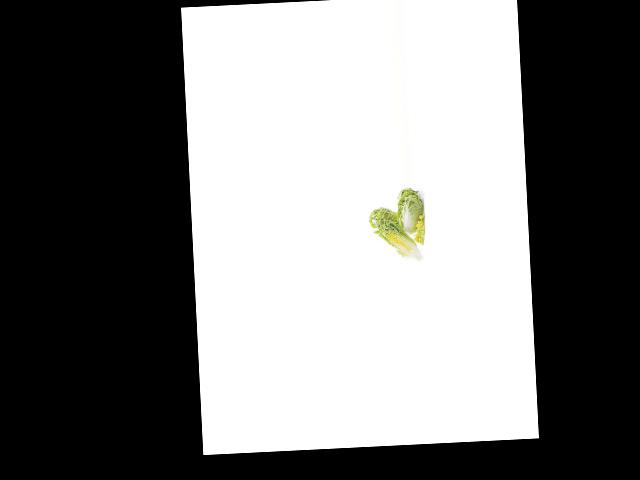lettuce: (394, 188, 427, 240)
